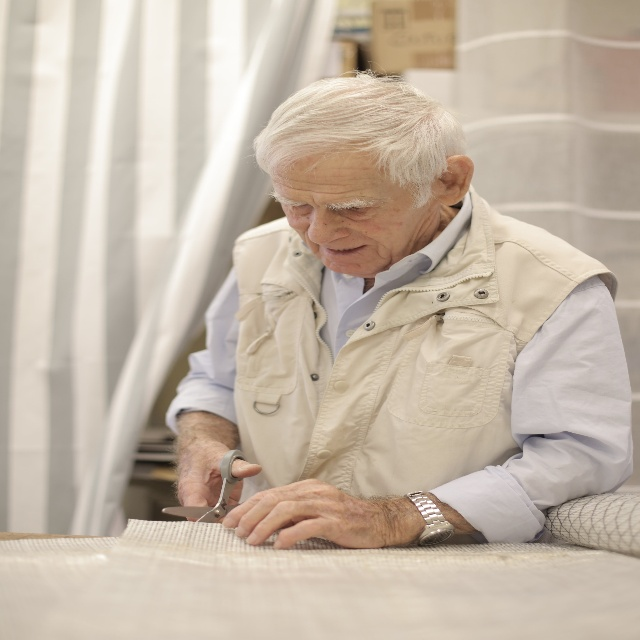Sin_guantes: (222, 478, 384, 549), (177, 440, 262, 525)
